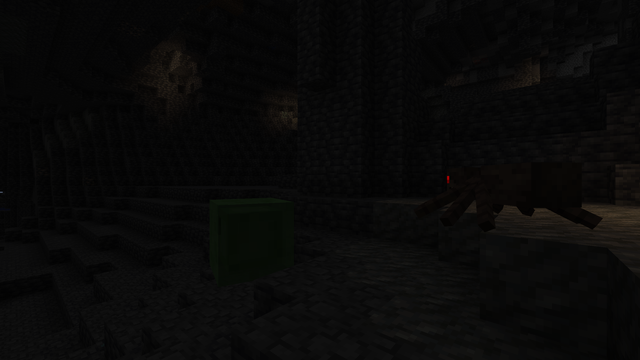araignees: (426, 154, 559, 237)
slimes: (198, 195, 299, 289)
